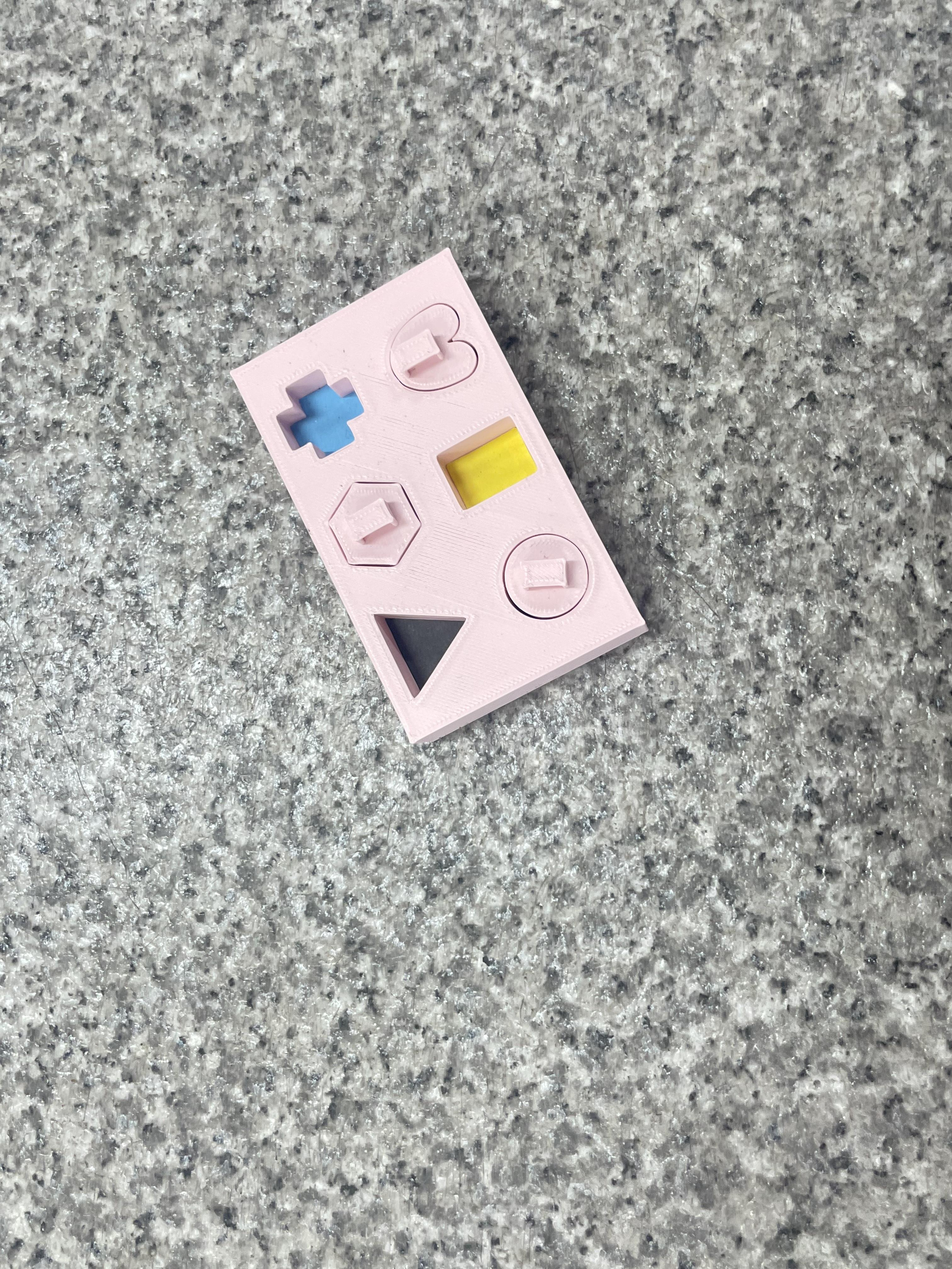unsolved: (224, 234, 669, 767)
